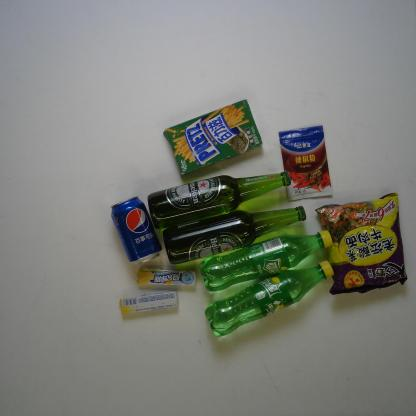Alcohol: (162, 203, 310, 265), (146, 168, 293, 230)
Candy: (119, 290, 179, 316), (135, 268, 196, 286)
Dessert: (160, 98, 262, 178)
Drink: (202, 259, 336, 338), (198, 227, 334, 291), (110, 195, 163, 266)
Instant Noodles: (314, 191, 408, 297)
Seasoner: (277, 124, 333, 202)
